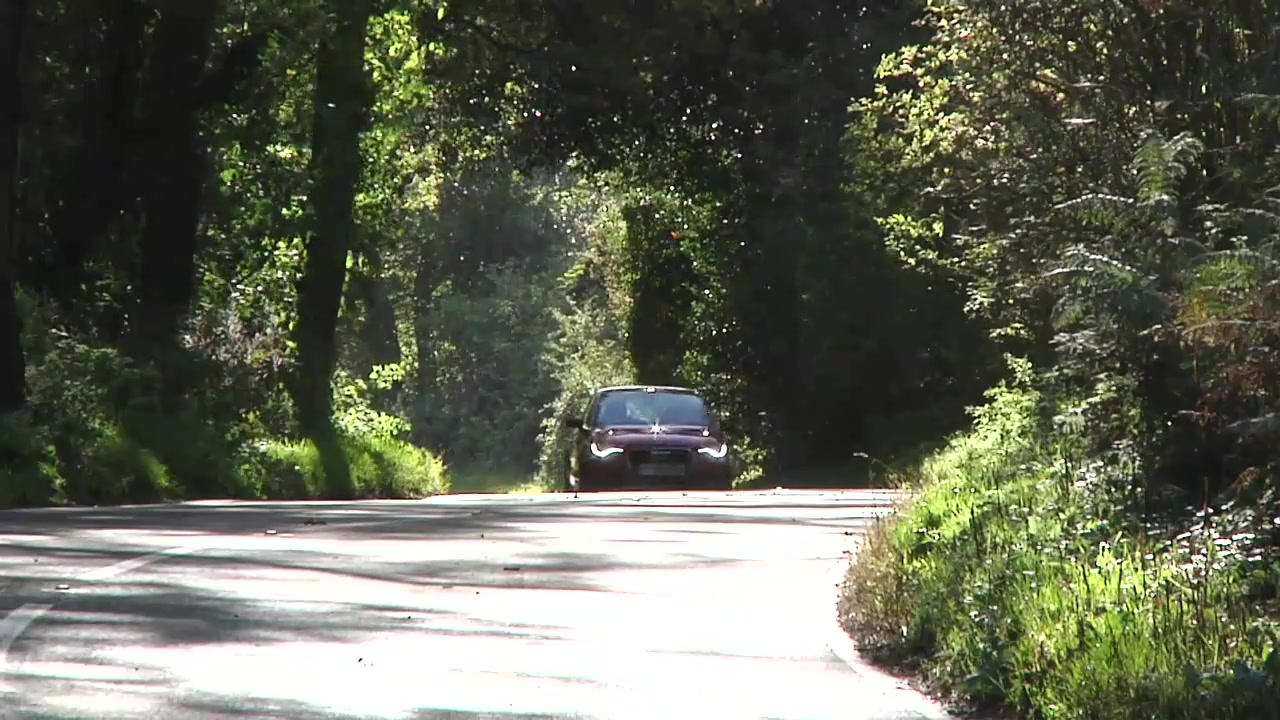car: (562, 386, 738, 494)
